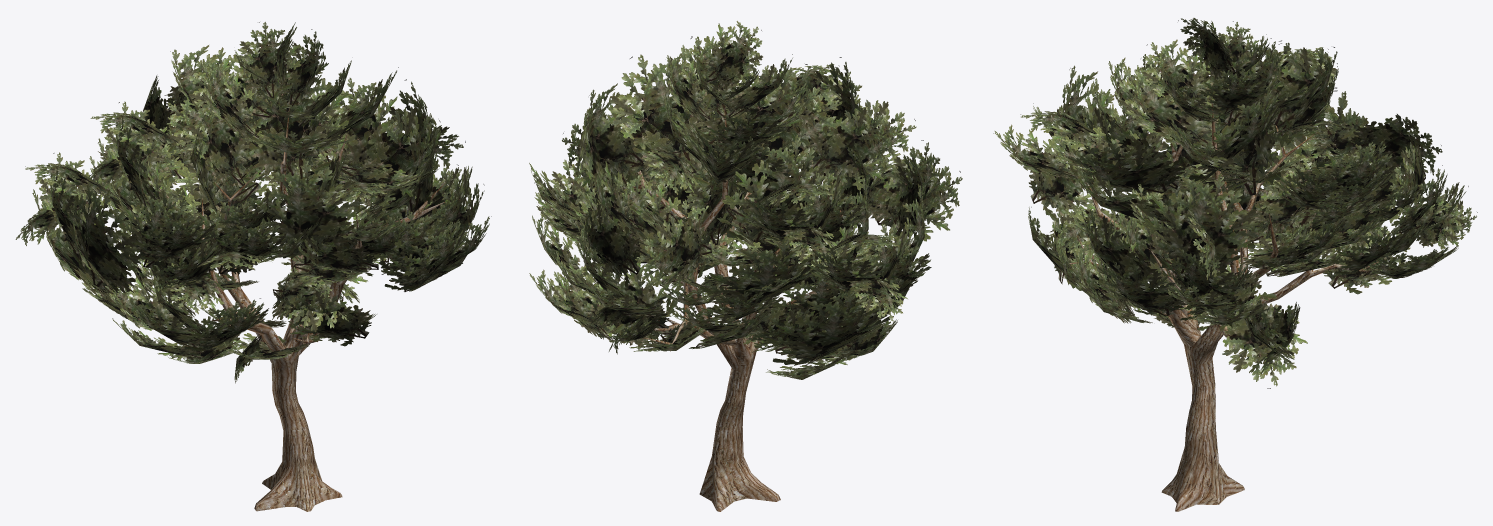
File: Model_Tree_12.fbx
3 renders of one model, left to right at view 1: azimuth 30°, elevation 25°; view 2: azimuth 150°, elevation 25°; view 3: azimuth 270°, elevation 25°, orthographic.
Parts seen in each view (by area): view 1: Tree_15; view 2: Tree_15; view 3: Tree_15.
Boxes of the visible parts, x1,y1,x2,y2 form: Tree_15: (15, 22, 491, 511); Tree_15: (529, 21, 962, 511); Tree_15: (993, 18, 1477, 511).
Bounding box in the file's own units: 1208 × 1368 × 1244.
